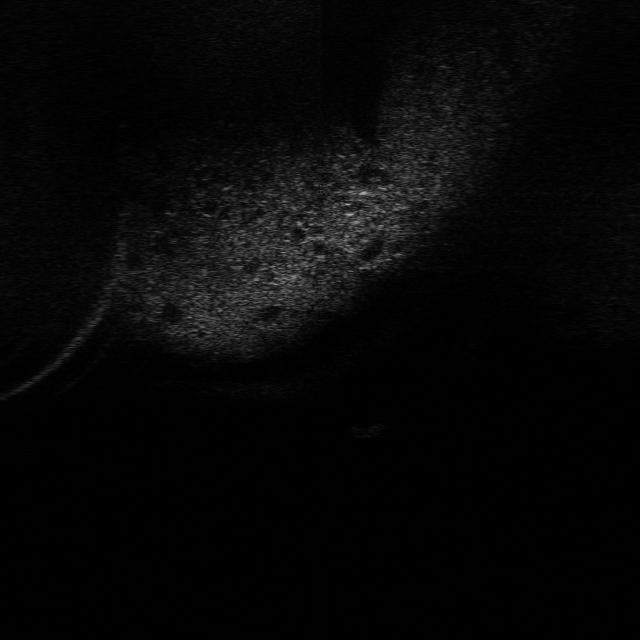cube: (343, 414, 392, 443)
